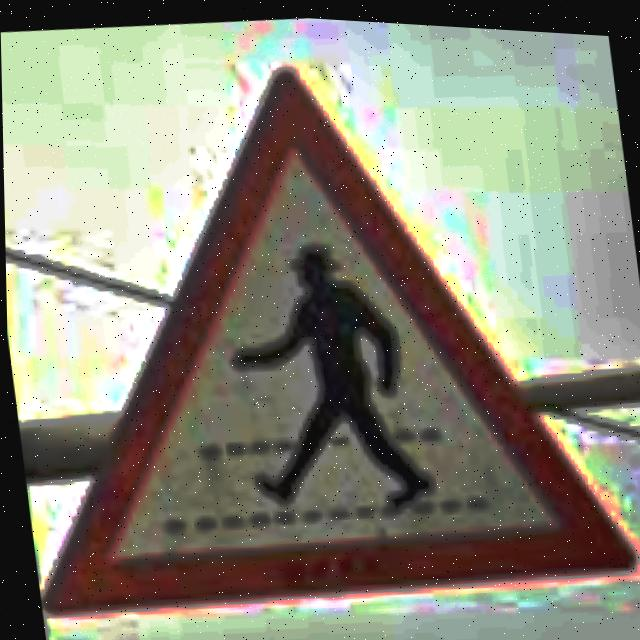pedestriancross: (38, 66, 635, 618)
